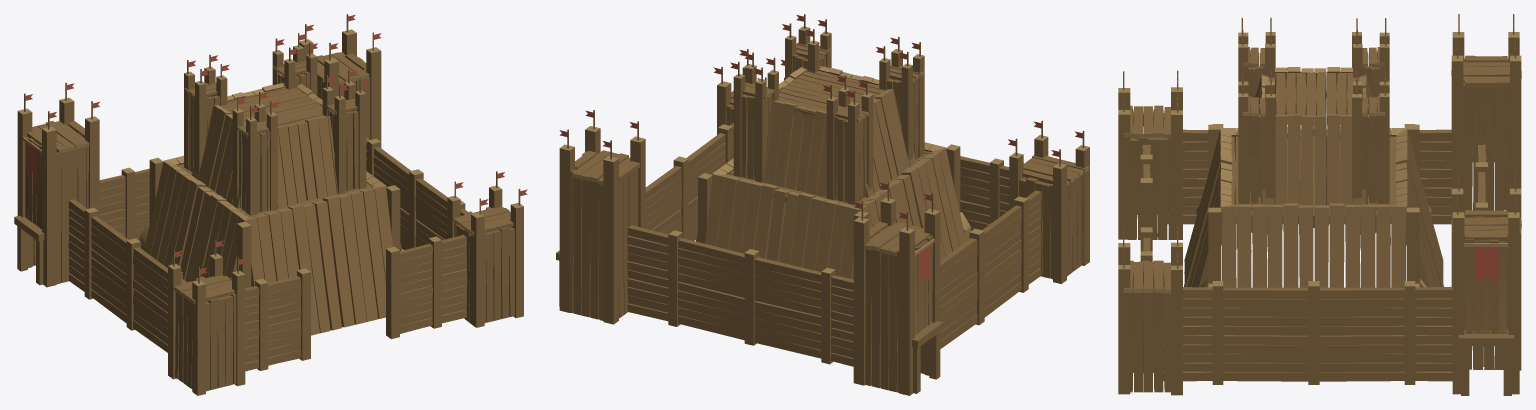
The model's file is Wonder_FirstAge_Level2.glb.
3 renders of one model, left to right at view 1: azimuth 30°, elevation 25°; view 2: azimuth 150°, elevation 25°; view 3: azimuth 270°, elevation 25°, orthographic. The views are drawn at different scales.
Parts seen in each view (by area): view 1: Wonder_FirstAge_Level2; view 2: Wonder_FirstAge_Level2; view 3: Wonder_FirstAge_Level2.
Part boxes in pixels (x1,y1,x2,y2): Wonder_FirstAge_Level2: (14,14,527,395); Wonder_FirstAge_Level2: (556,14,1089,395); Wonder_FirstAge_Level2: (1118,14,1521,395).
Size of the model in its own units: 2.2 by 1.36 by 1.95.
